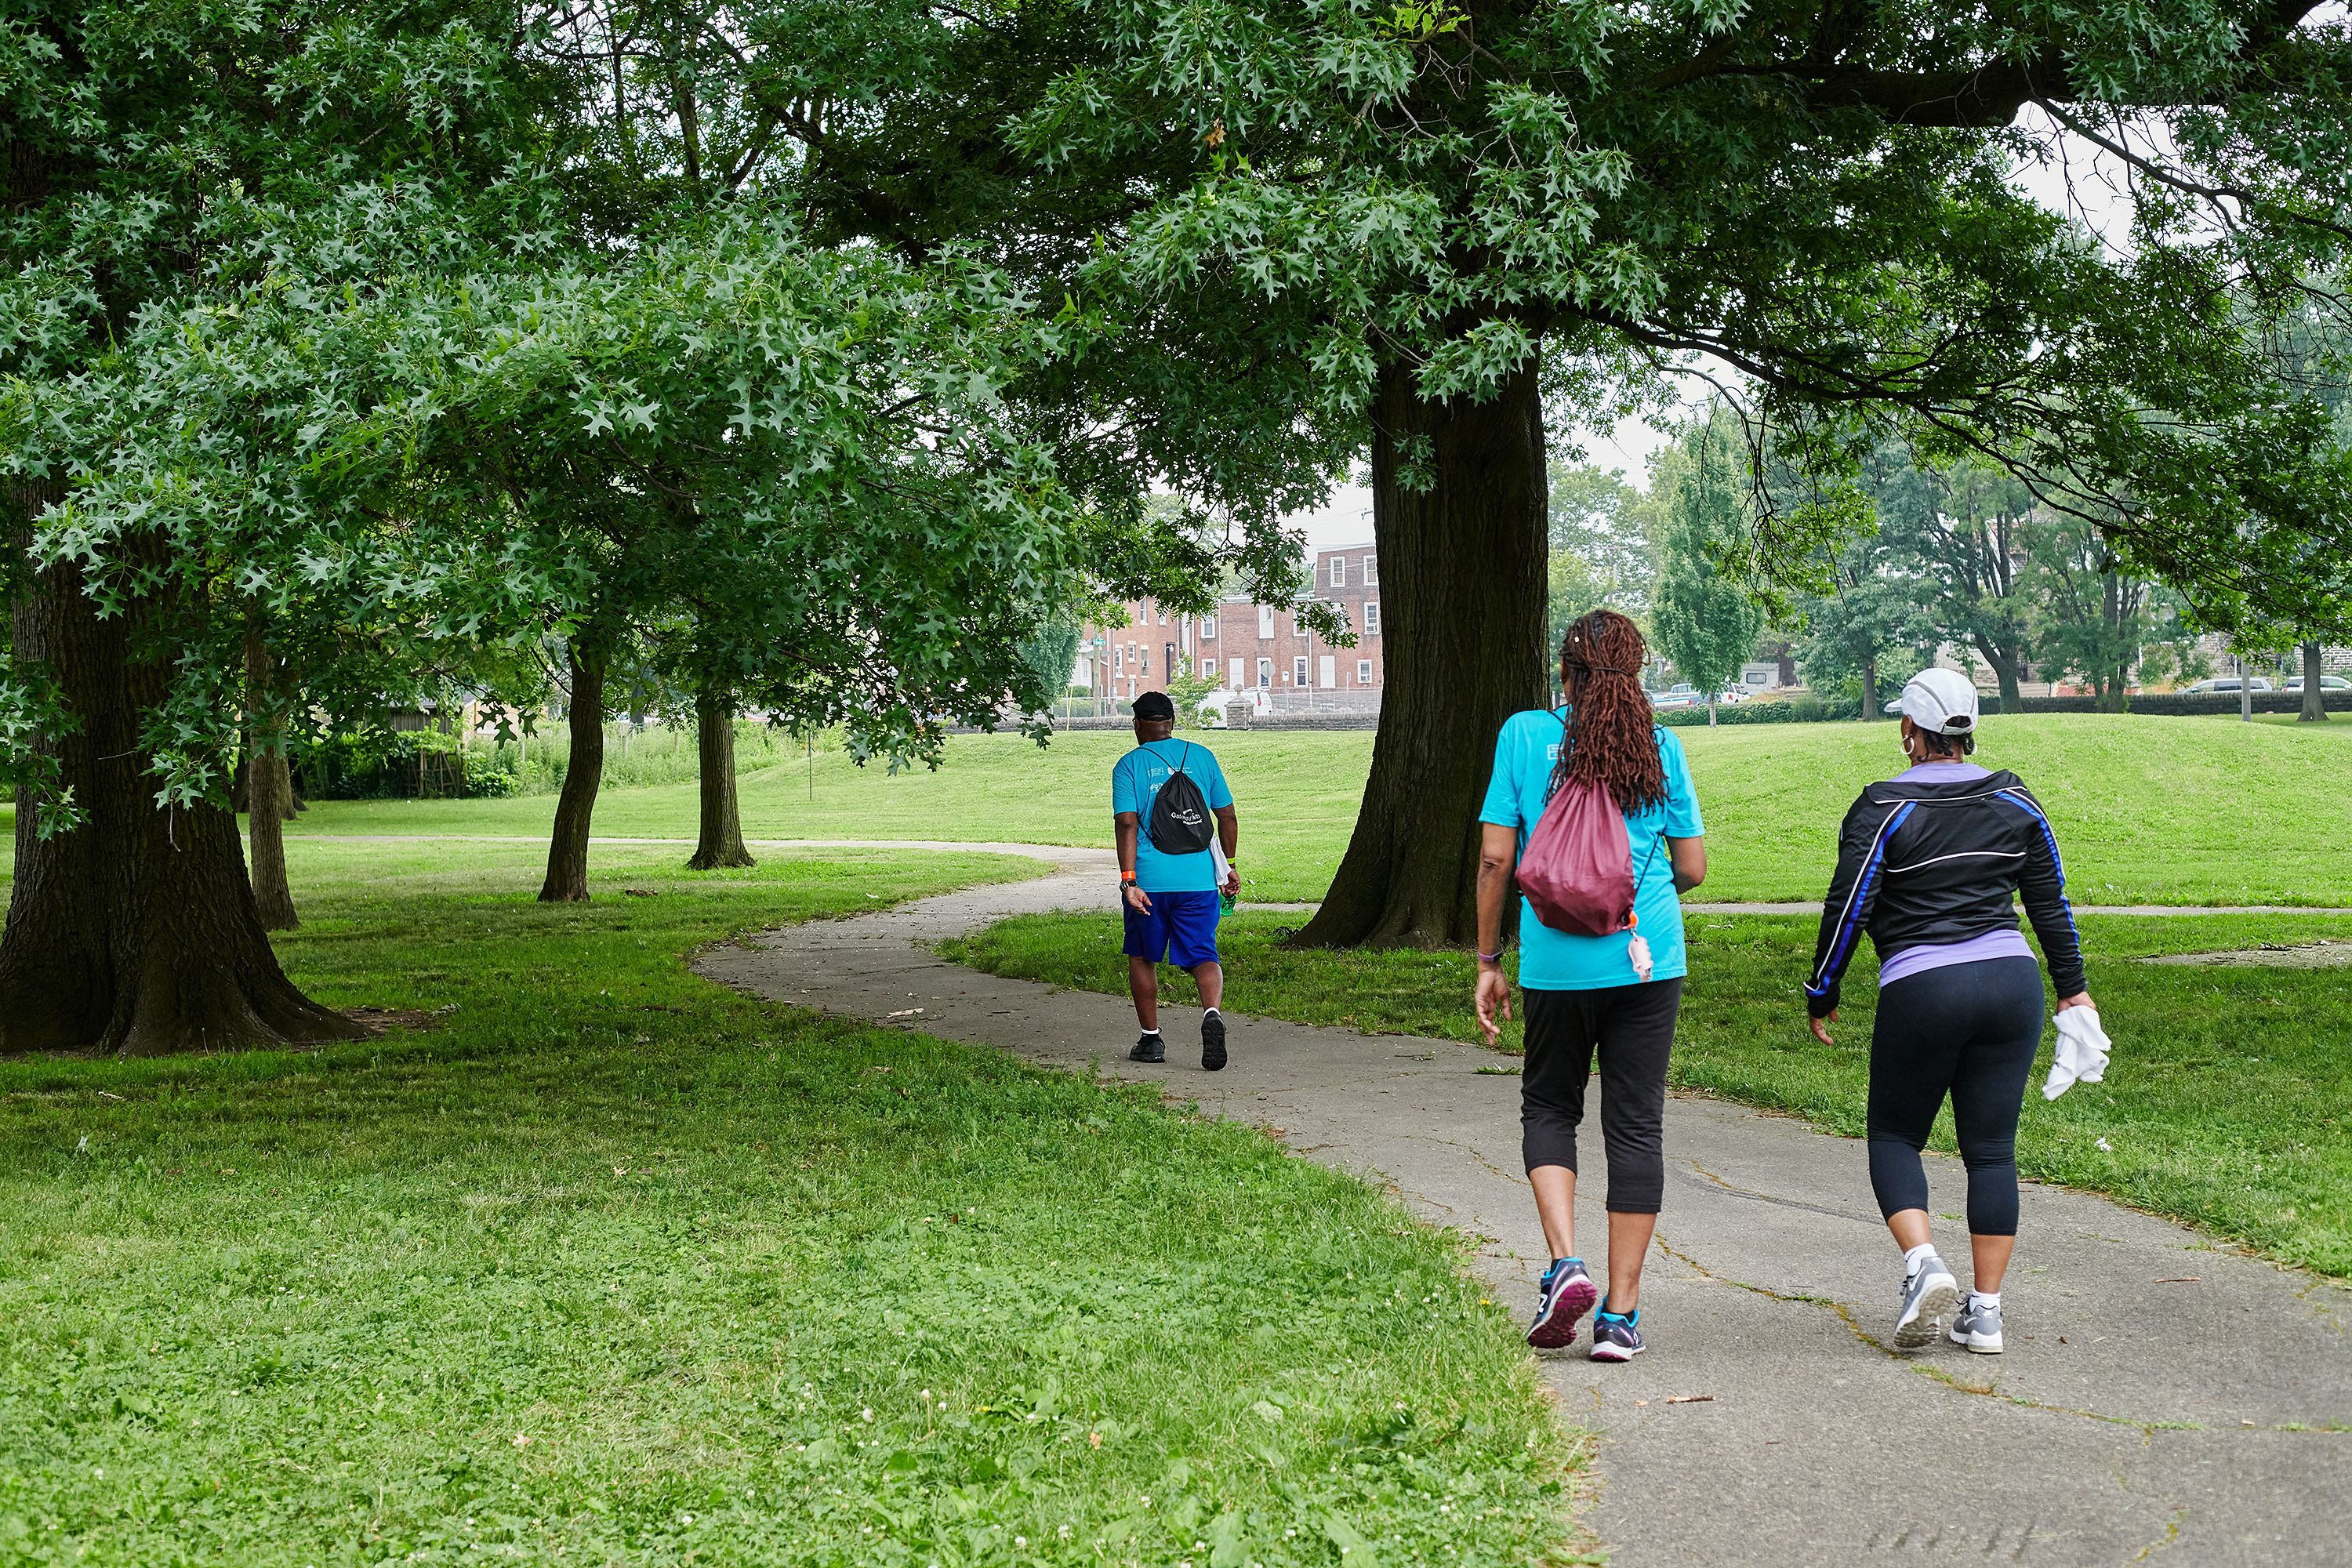Person: (1806, 665, 2094, 1357), (1473, 608, 1707, 1369), (1113, 691, 1245, 1065)
